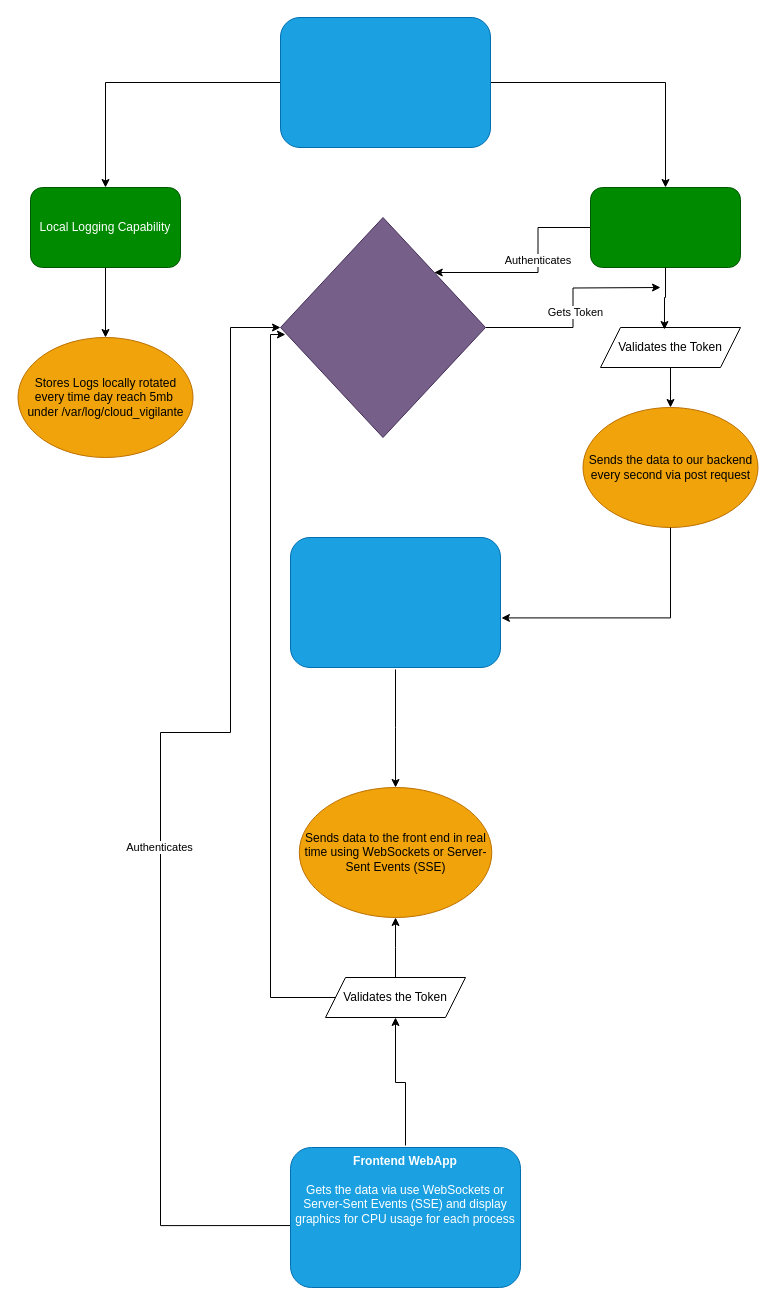
Some shapes in this 775 by 1305 pixel diagram are drawn without their labels. The centre of each missing label's shape, as x and y in pixels:
"Authentication for APIs will be done using OAUTH 2.0 and JWT" belongs at pixel 383 327.
"Backend Made in bun will grab the info and parse to send it to the front end" belongs at pixel 395 602.
"HttpClient Library to send the data" belongs at pixel 665 227.
"Process Information Gatherer: Process Name Process Command Cpu Usage" belongs at pixel 385 82.
